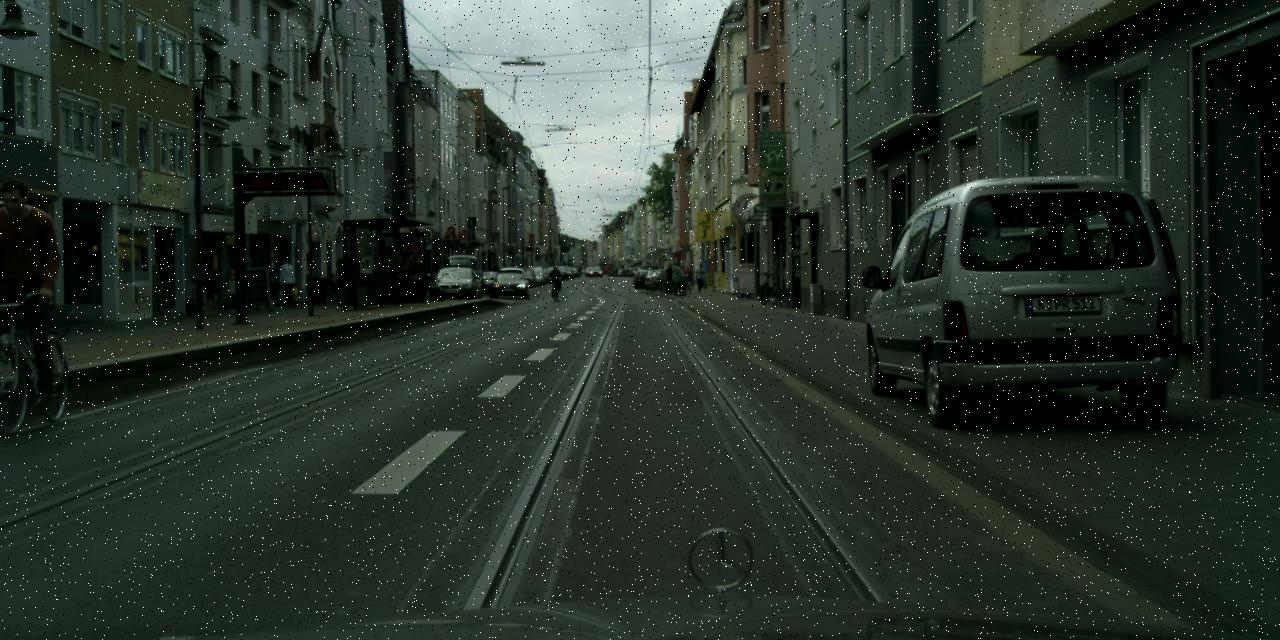ped: (0, 179, 68, 396), (334, 251, 356, 305), (277, 256, 297, 305), (692, 260, 706, 292), (549, 264, 561, 296), (662, 262, 674, 292), (670, 262, 681, 290), (681, 265, 691, 289), (492, 264, 500, 282)
